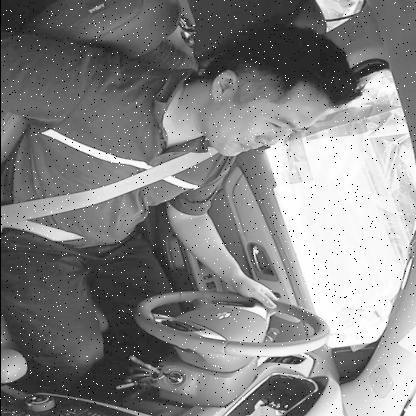seatbelt: (76, 29, 356, 224)
